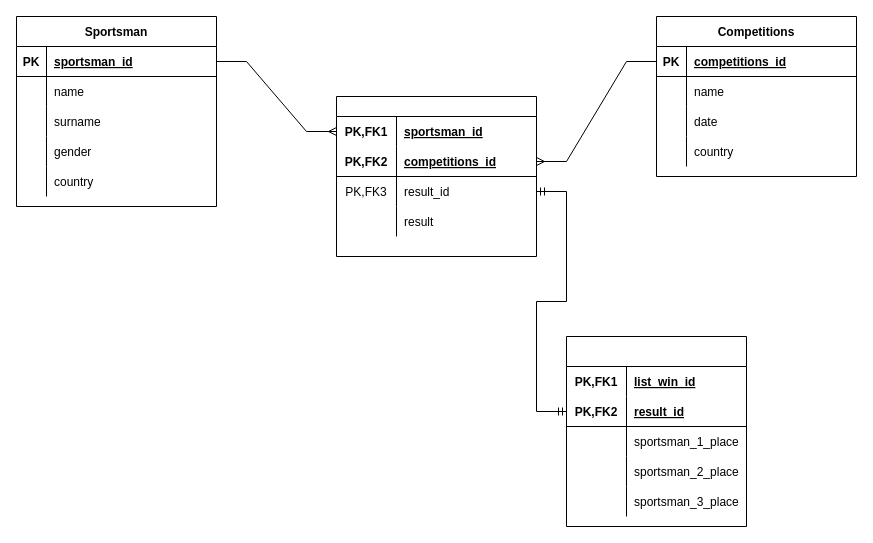
The diagram is 873 pixels wide and 543 high, and some of its shapes have lost their labels. The shapes that lost their labels are listed below. From the top down, each one's box as (x1, y1, x2, y2) in pixels, then its label:
(336, 96, 536, 256): Results
(566, 336, 746, 526): ListWinners
